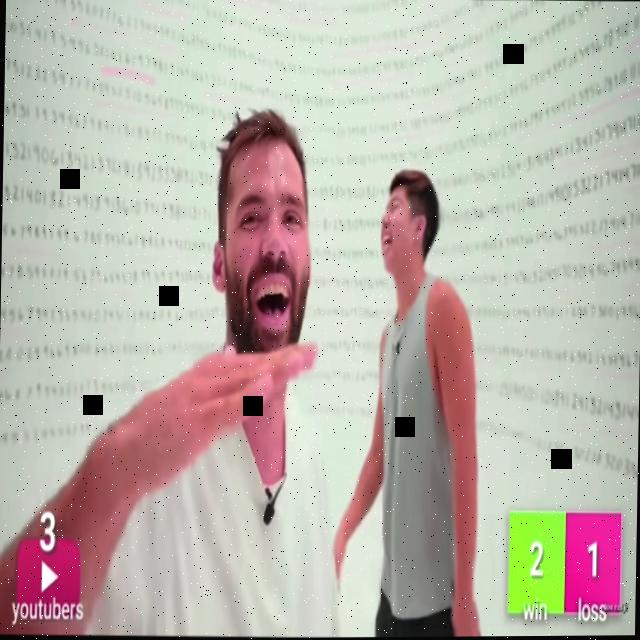Paper: (107, 336, 320, 489)
